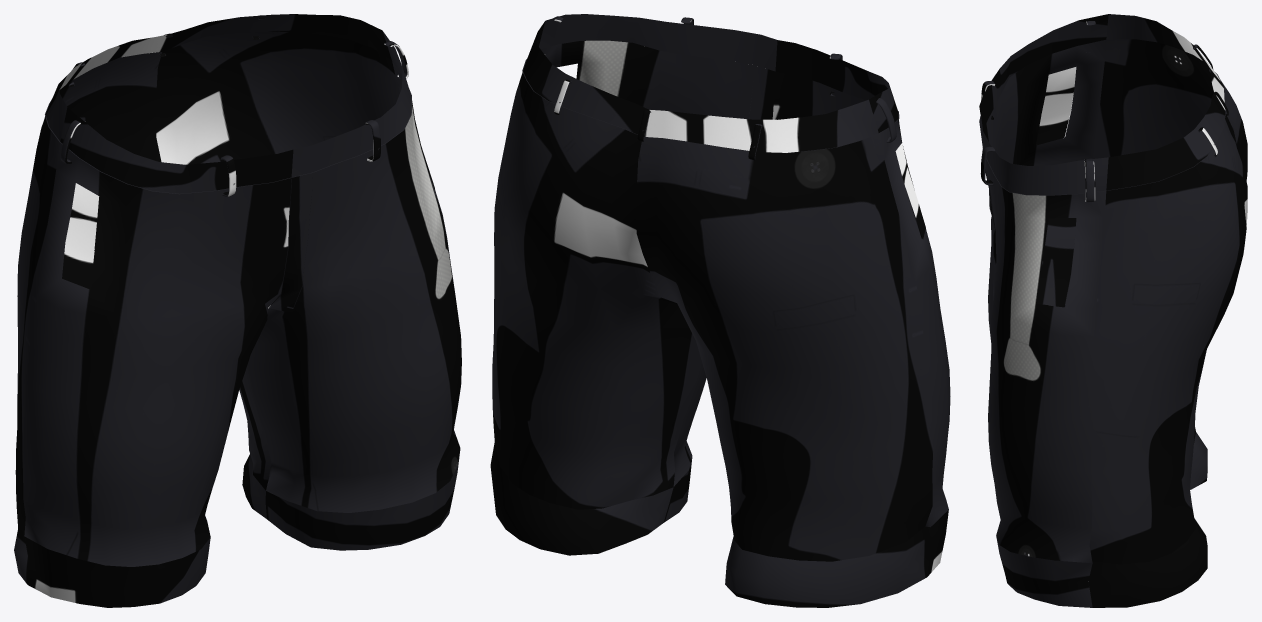
The model's file is material_shorts.glb.
3 views of the same model, side by side, from view 1: azimuth 30°, elevation 25°; view 2: azimuth 150°, elevation 25°; view 3: azimuth 270°, elevation 25° (orthographic). The views are drawn at different scales.
Visible parts, largest first — view 1: all; view 2: all; view 3: all.
Boxes of the visible parts, left/top/right/bottom form: all: left=14, top=14, right=461, bottom=607; all: left=490, top=14, right=950, bottom=607; all: left=979, top=14, right=1247, bottom=607.
Bounding box in the file's own units: 0.3767 × 0.3994 × 0.2223.
Materials: 1 (1 with a texture image).
